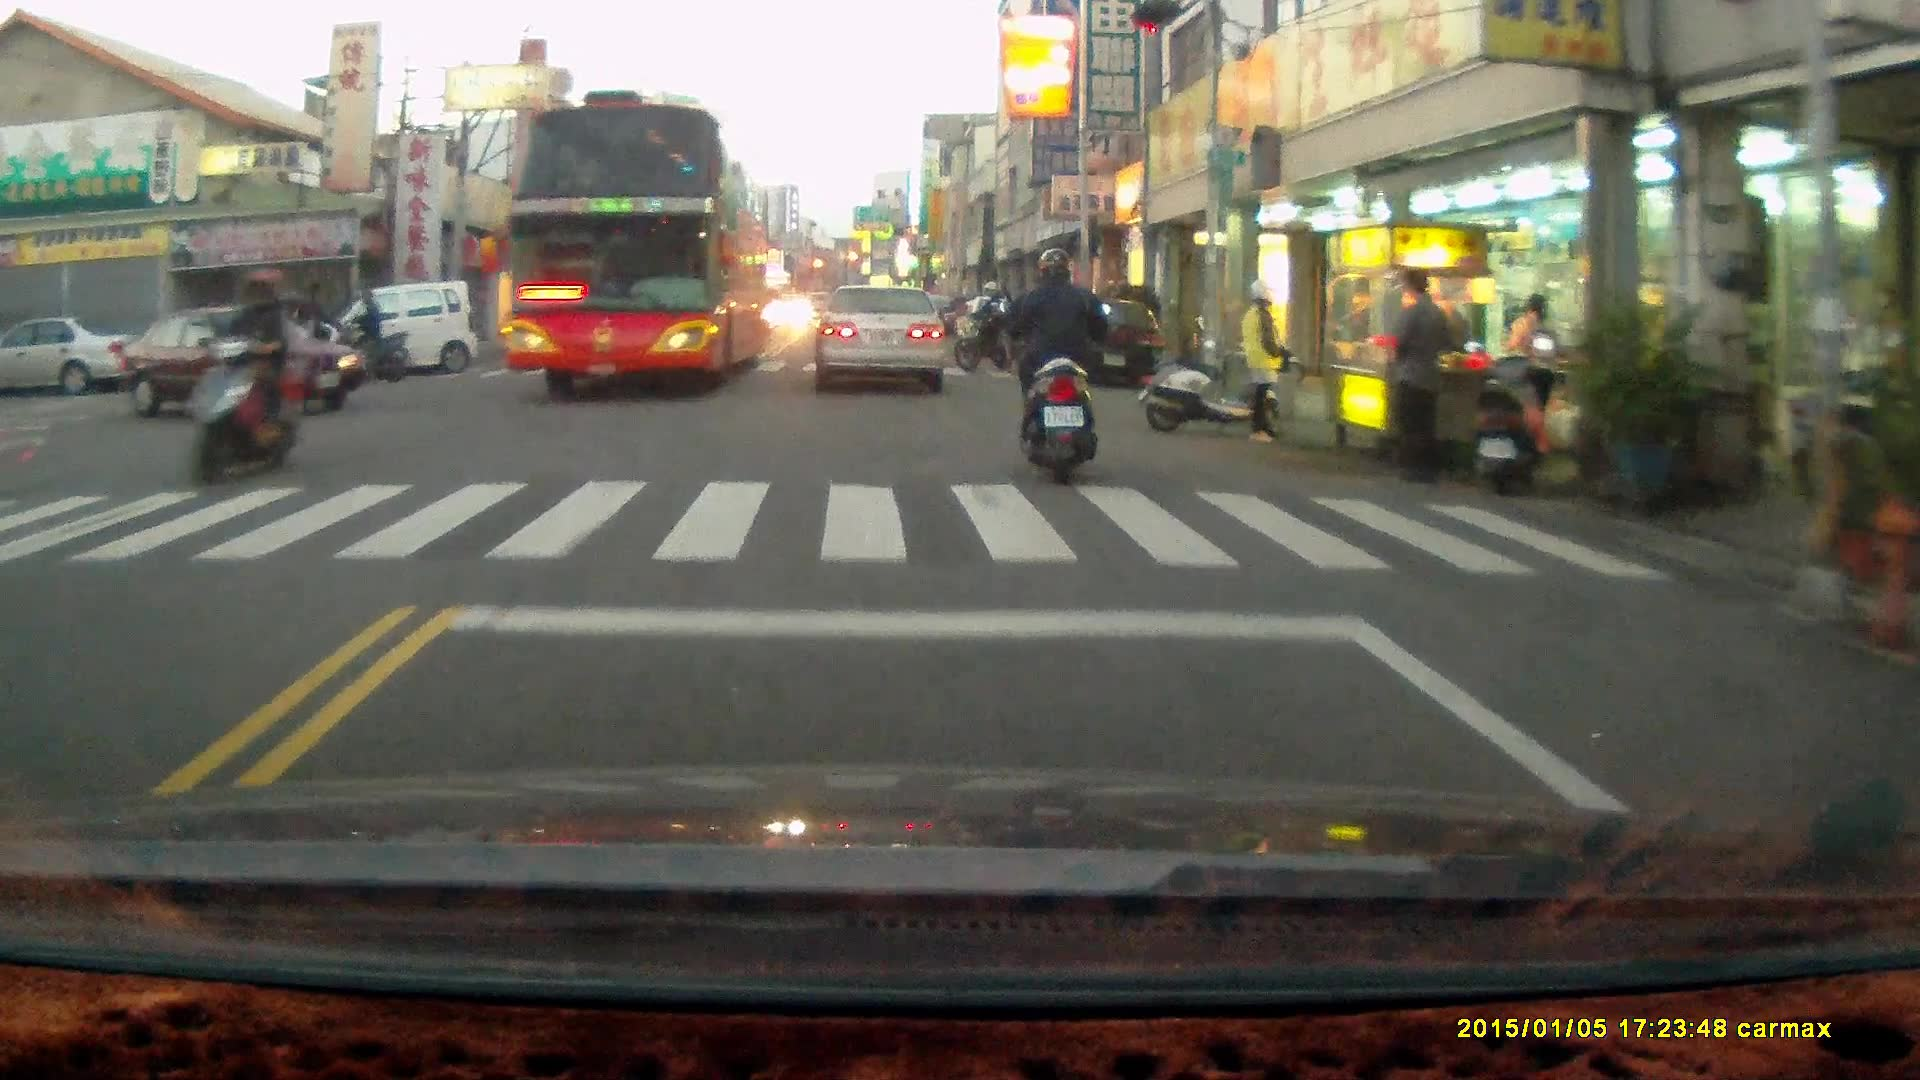pedestrian: (1389, 267, 1451, 480), (1507, 294, 1556, 461), (1241, 283, 1288, 449)
rider: (998, 242, 1112, 484), (188, 268, 302, 483), (277, 281, 366, 380), (332, 285, 408, 383), (949, 285, 1018, 378)
vehicle: (503, 98, 773, 399), (128, 307, 363, 417), (812, 282, 948, 395), (337, 278, 481, 377), (1, 313, 143, 401), (1048, 296, 1169, 393)
